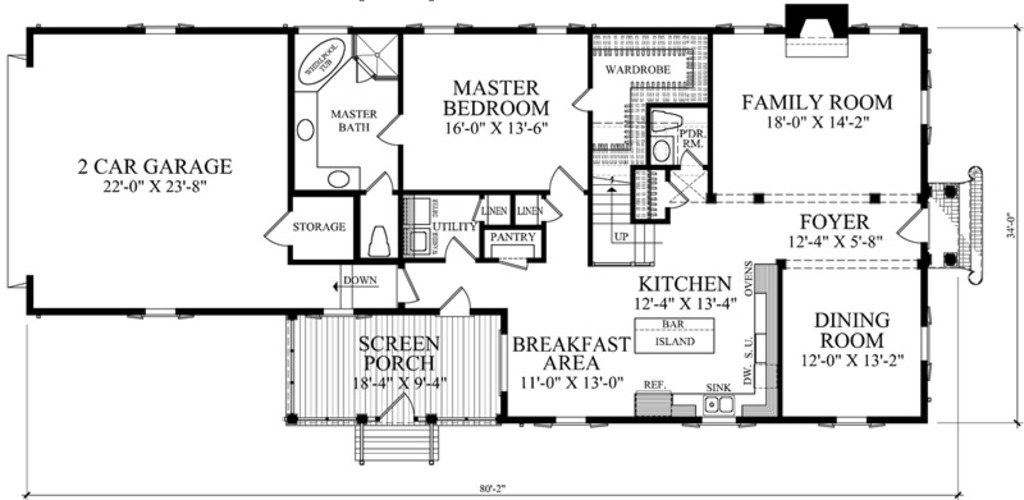door: (545, 162, 595, 197), (895, 202, 932, 249), (256, 208, 295, 250), (389, 261, 420, 310), (444, 233, 478, 271), (436, 288, 473, 316), (667, 175, 692, 214), (373, 115, 404, 146), (366, 168, 397, 199), (573, 79, 598, 116), (678, 147, 706, 173)
kitchen_bar: (631, 312, 721, 360)
large_sink: (649, 107, 685, 141), (362, 224, 393, 260)
small_sink: (289, 91, 320, 166), (294, 164, 362, 189), (651, 136, 673, 166)
stairs: (591, 172, 659, 269)
tub: (292, 32, 357, 93)
twin_sink: (694, 392, 738, 416)
window: (125, 301, 197, 323), (122, 15, 190, 36), (818, 412, 877, 434), (717, 19, 773, 41), (913, 83, 934, 134), (856, 21, 909, 39), (916, 316, 932, 370), (525, 24, 573, 39), (422, 21, 461, 38)
